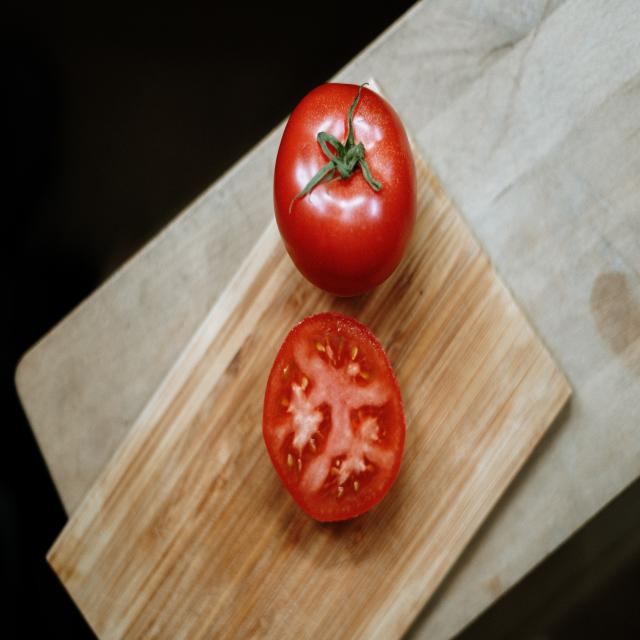Tomato: (265, 301, 410, 528), (277, 88, 419, 286)
